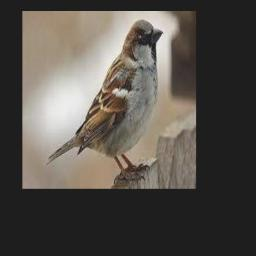Sparrow: (47, 20, 163, 182)
